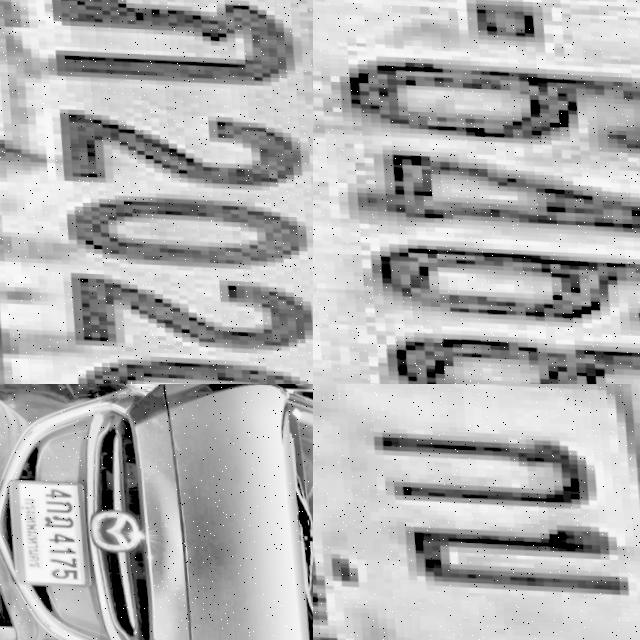license-plate: (313, 0, 640, 384), (0, 0, 313, 384), (313, 384, 640, 640), (0, 476, 91, 587)
